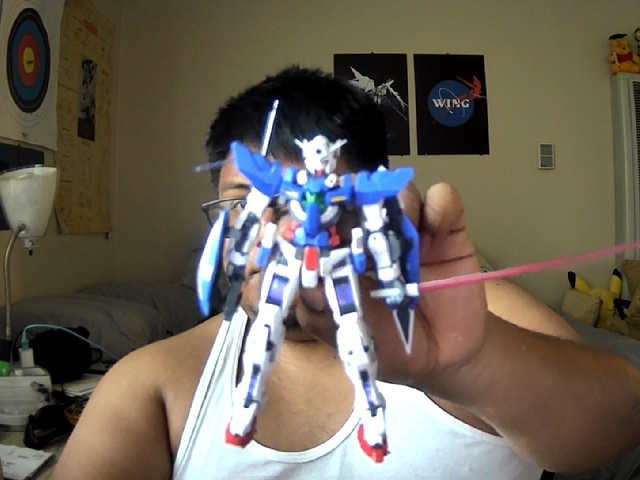Exia: (196, 134, 640, 466)
